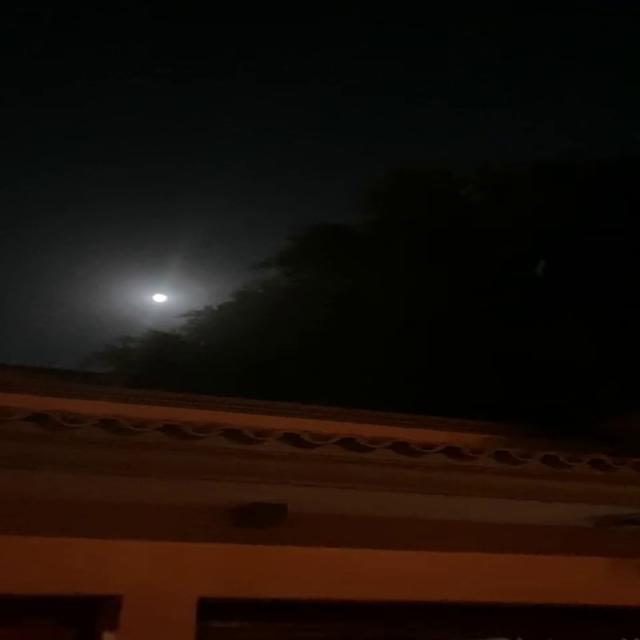moon: (152, 282, 176, 318)
